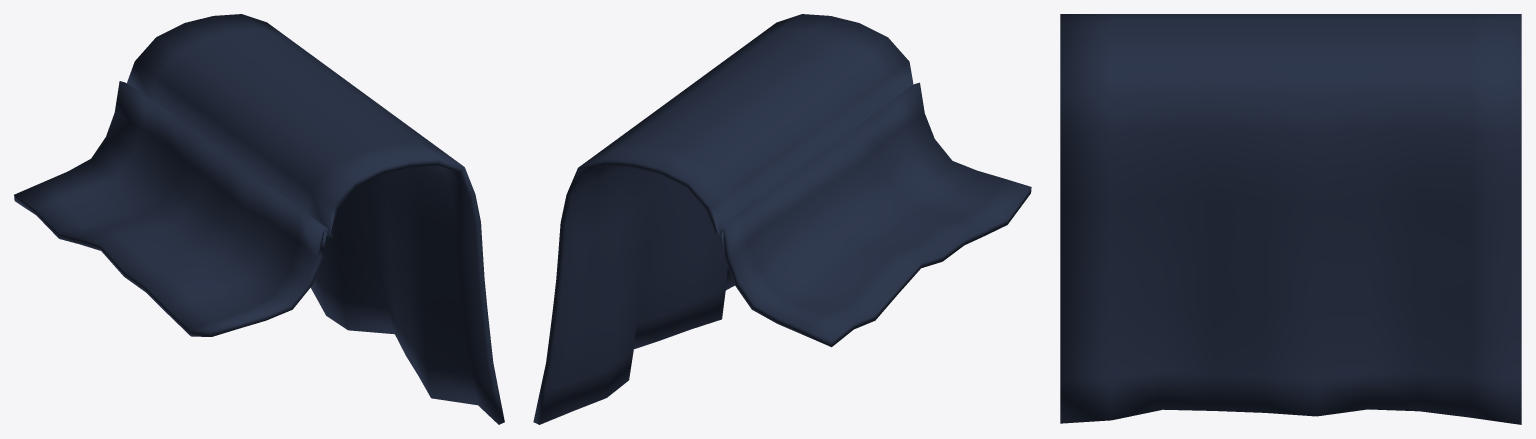
Rendered from decor_c_throw_navy.gltf.
The picture shows the model from 3 angles, left to right: view 1: azimuth 30°, elevation 25°; view 2: azimuth 150°, elevation 25°; view 3: azimuth 270°, elevation 25°; orthographic projection. The views are drawn at different scales.
Visible parts, largest first — view 1: DecorC_ThrowNavy_Navy_NoCollide; view 2: DecorC_ThrowNavy_Navy_NoCollide; view 3: DecorC_ThrowNavy_Navy_NoCollide.
Boxes of the visible parts, left/top/right/bottom form: DecorC_ThrowNavy_Navy_NoCollide: left=14, top=14, right=504, bottom=424; DecorC_ThrowNavy_Navy_NoCollide: left=533, top=14, right=1031, bottom=424; DecorC_ThrowNavy_Navy_NoCollide: left=1060, top=14, right=1521, bottom=424.
Size of the model in its own units: 0.4825 by 0.4389 by 0.55.
